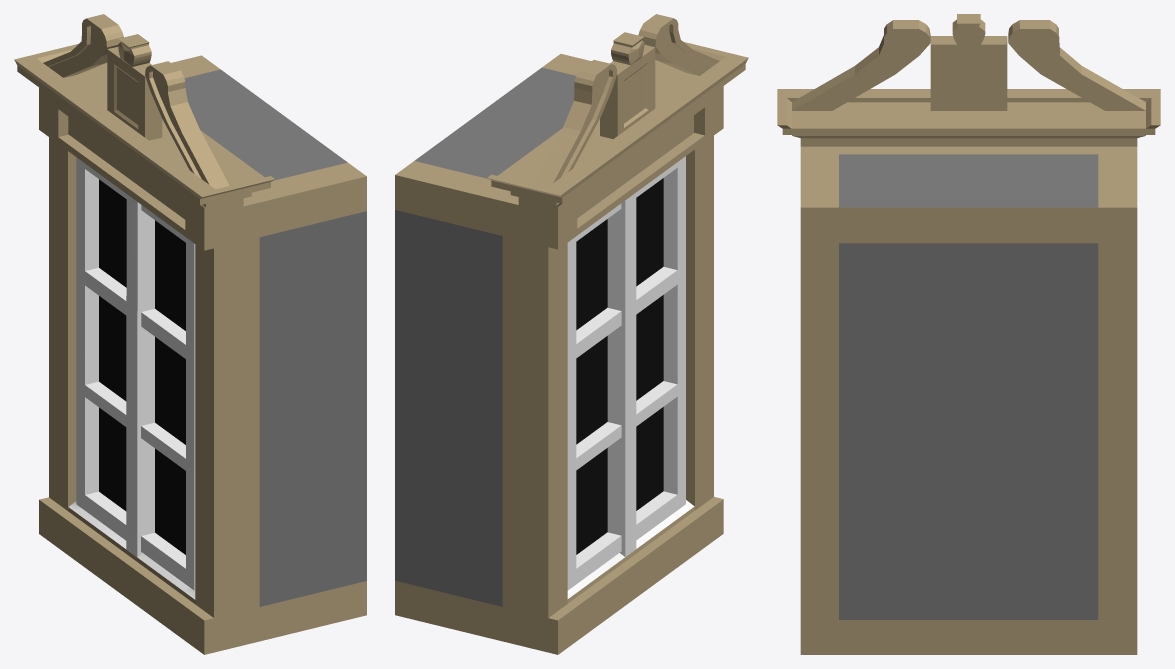
File: Window1.fbx
3 views of the same model, side by side, from view 1: azimuth 30°, elevation 25°; view 2: azimuth 150°, elevation 25°; view 3: azimuth 270°, elevation 25° (orthographic).
Visible parts, largest first — view 1: Window002; view 2: Window002; view 3: Window002.
Part boxes in pixels (x1=…): Window002: x1=14, y1=14, x2=366, y2=654; Window002: x1=395, y1=14, x2=748, y2=654; Window002: x1=777, y1=14, x2=1160, y2=654.
Bounding box in the file's own units: 24.23 × 72.43 × 44.82.
